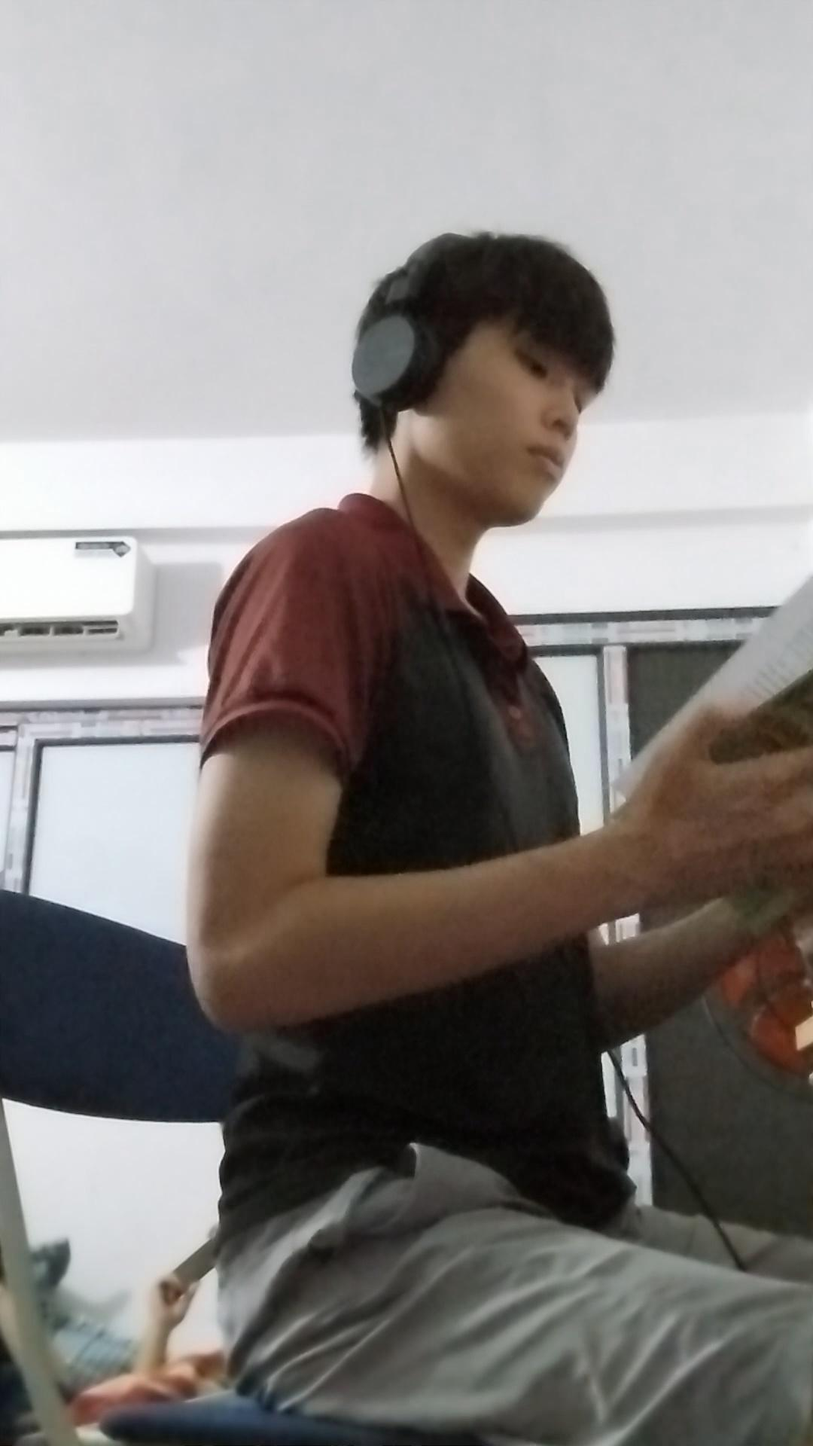GoodPosture: (187, 233, 812, 1445)
